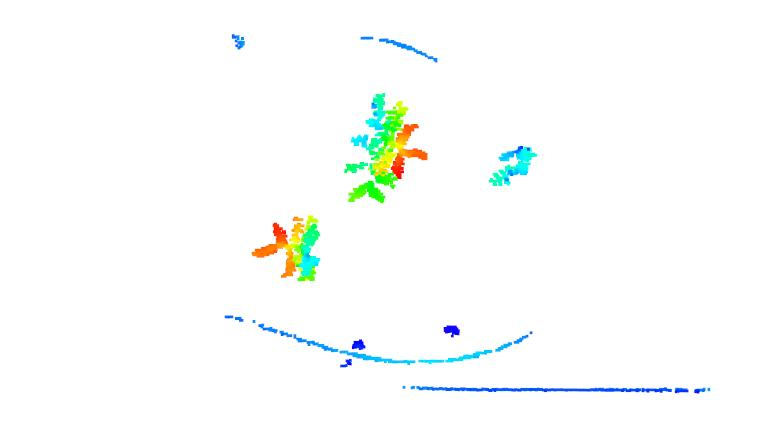chickpea: (343, 91, 428, 204), (249, 212, 322, 282), (487, 145, 540, 189)
